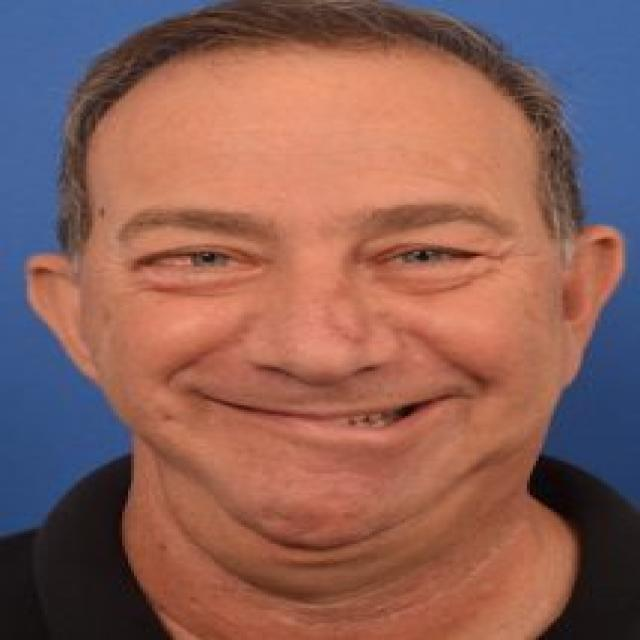stroke_face: (26, 3, 628, 560)
